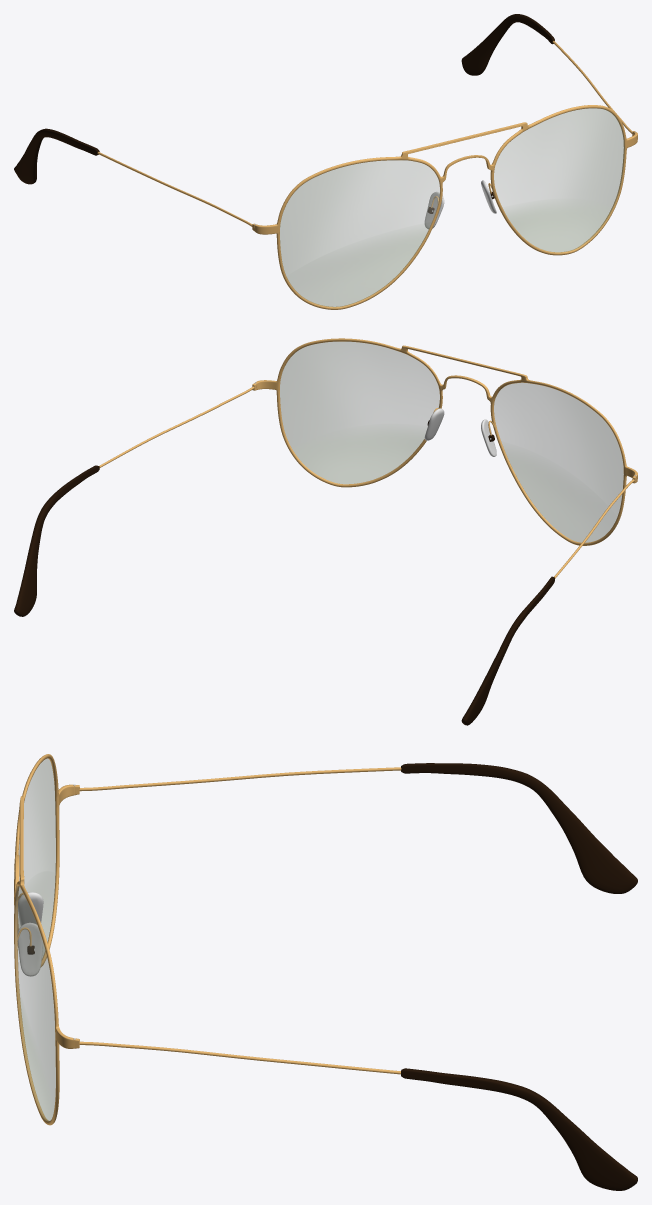
The picture shows the model from 3 angles, top to bottom: view 1: azimuth 30°, elevation 25°; view 2: azimuth 150°, elevation 25°; view 3: azimuth 270°, elevation 25°; orthographic projection. The views are drawn at different scales.
Visible parts, largest first — view 1: Aviators_Glass tinted_0, Aviators_Gold metallic_0, Aviators_Black gloss_0, Aviators_Transparent_0; view 2: Aviators_Glass tinted_0, Aviators_Gold metallic_0, Aviators_Black gloss_0, Aviators_Transparent_0; view 3: Aviators_Glass tinted_0, Aviators_Black gloss_0, Aviators_Gold metallic_0, Aviators_Transparent_0.
Part boxes in pixels (left/top/right/bottom): Aviators_Glass tinted_0: left=280, top=108, right=624, bottom=307; Aviators_Gold metallic_0: left=97, top=41, right=637, bottom=309; Aviators_Black gloss_0: left=14, top=14, right=554, bottom=213; Aviators_Transparent_0: left=424, top=180, right=496, bottom=228; Aviators_Glass tinted_0: left=280, top=342, right=623, bottom=542; Aviators_Gold metallic_0: left=99, top=338, right=637, bottom=578; Aviators_Black gloss_0: left=14, top=420, right=554, bottom=725; Aviators_Transparent_0: left=424, top=408, right=496, bottom=456; Aviators_Glass tinted_0: left=15, top=758, right=55, bottom=1121; Aviators_Black gloss_0: left=27, top=763, right=637, bottom=1190; Aviators_Gold metallic_0: left=14, top=754, right=401, bottom=1125; Aviators_Transparent_0: left=17, top=892, right=43, bottom=976.
Size of the model in its own units: 17.36 by 5.22 by 14.4.
5 materials, 1 textured.
